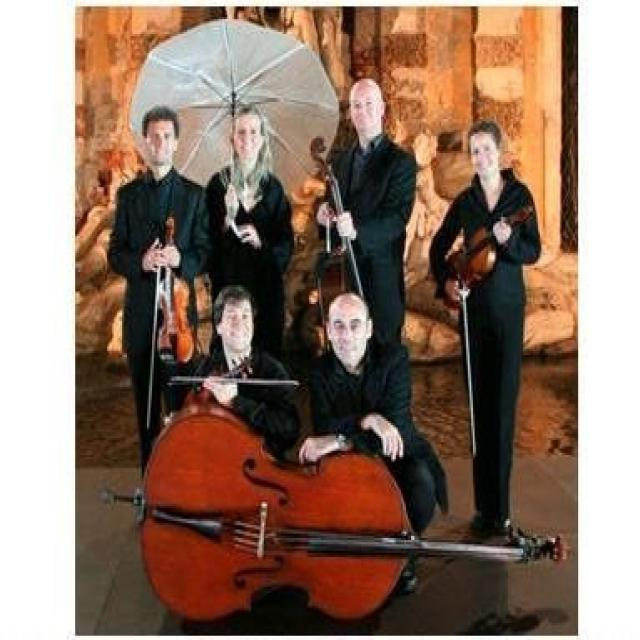cello: (303, 131, 355, 314)
violin: (442, 200, 536, 299), (152, 218, 196, 366)
